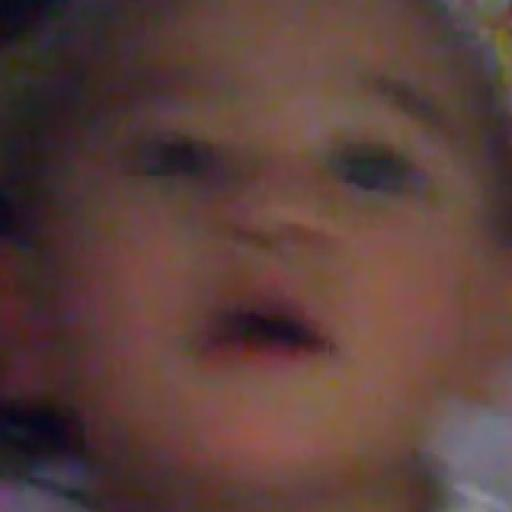Autism: (42, 5, 506, 478)
